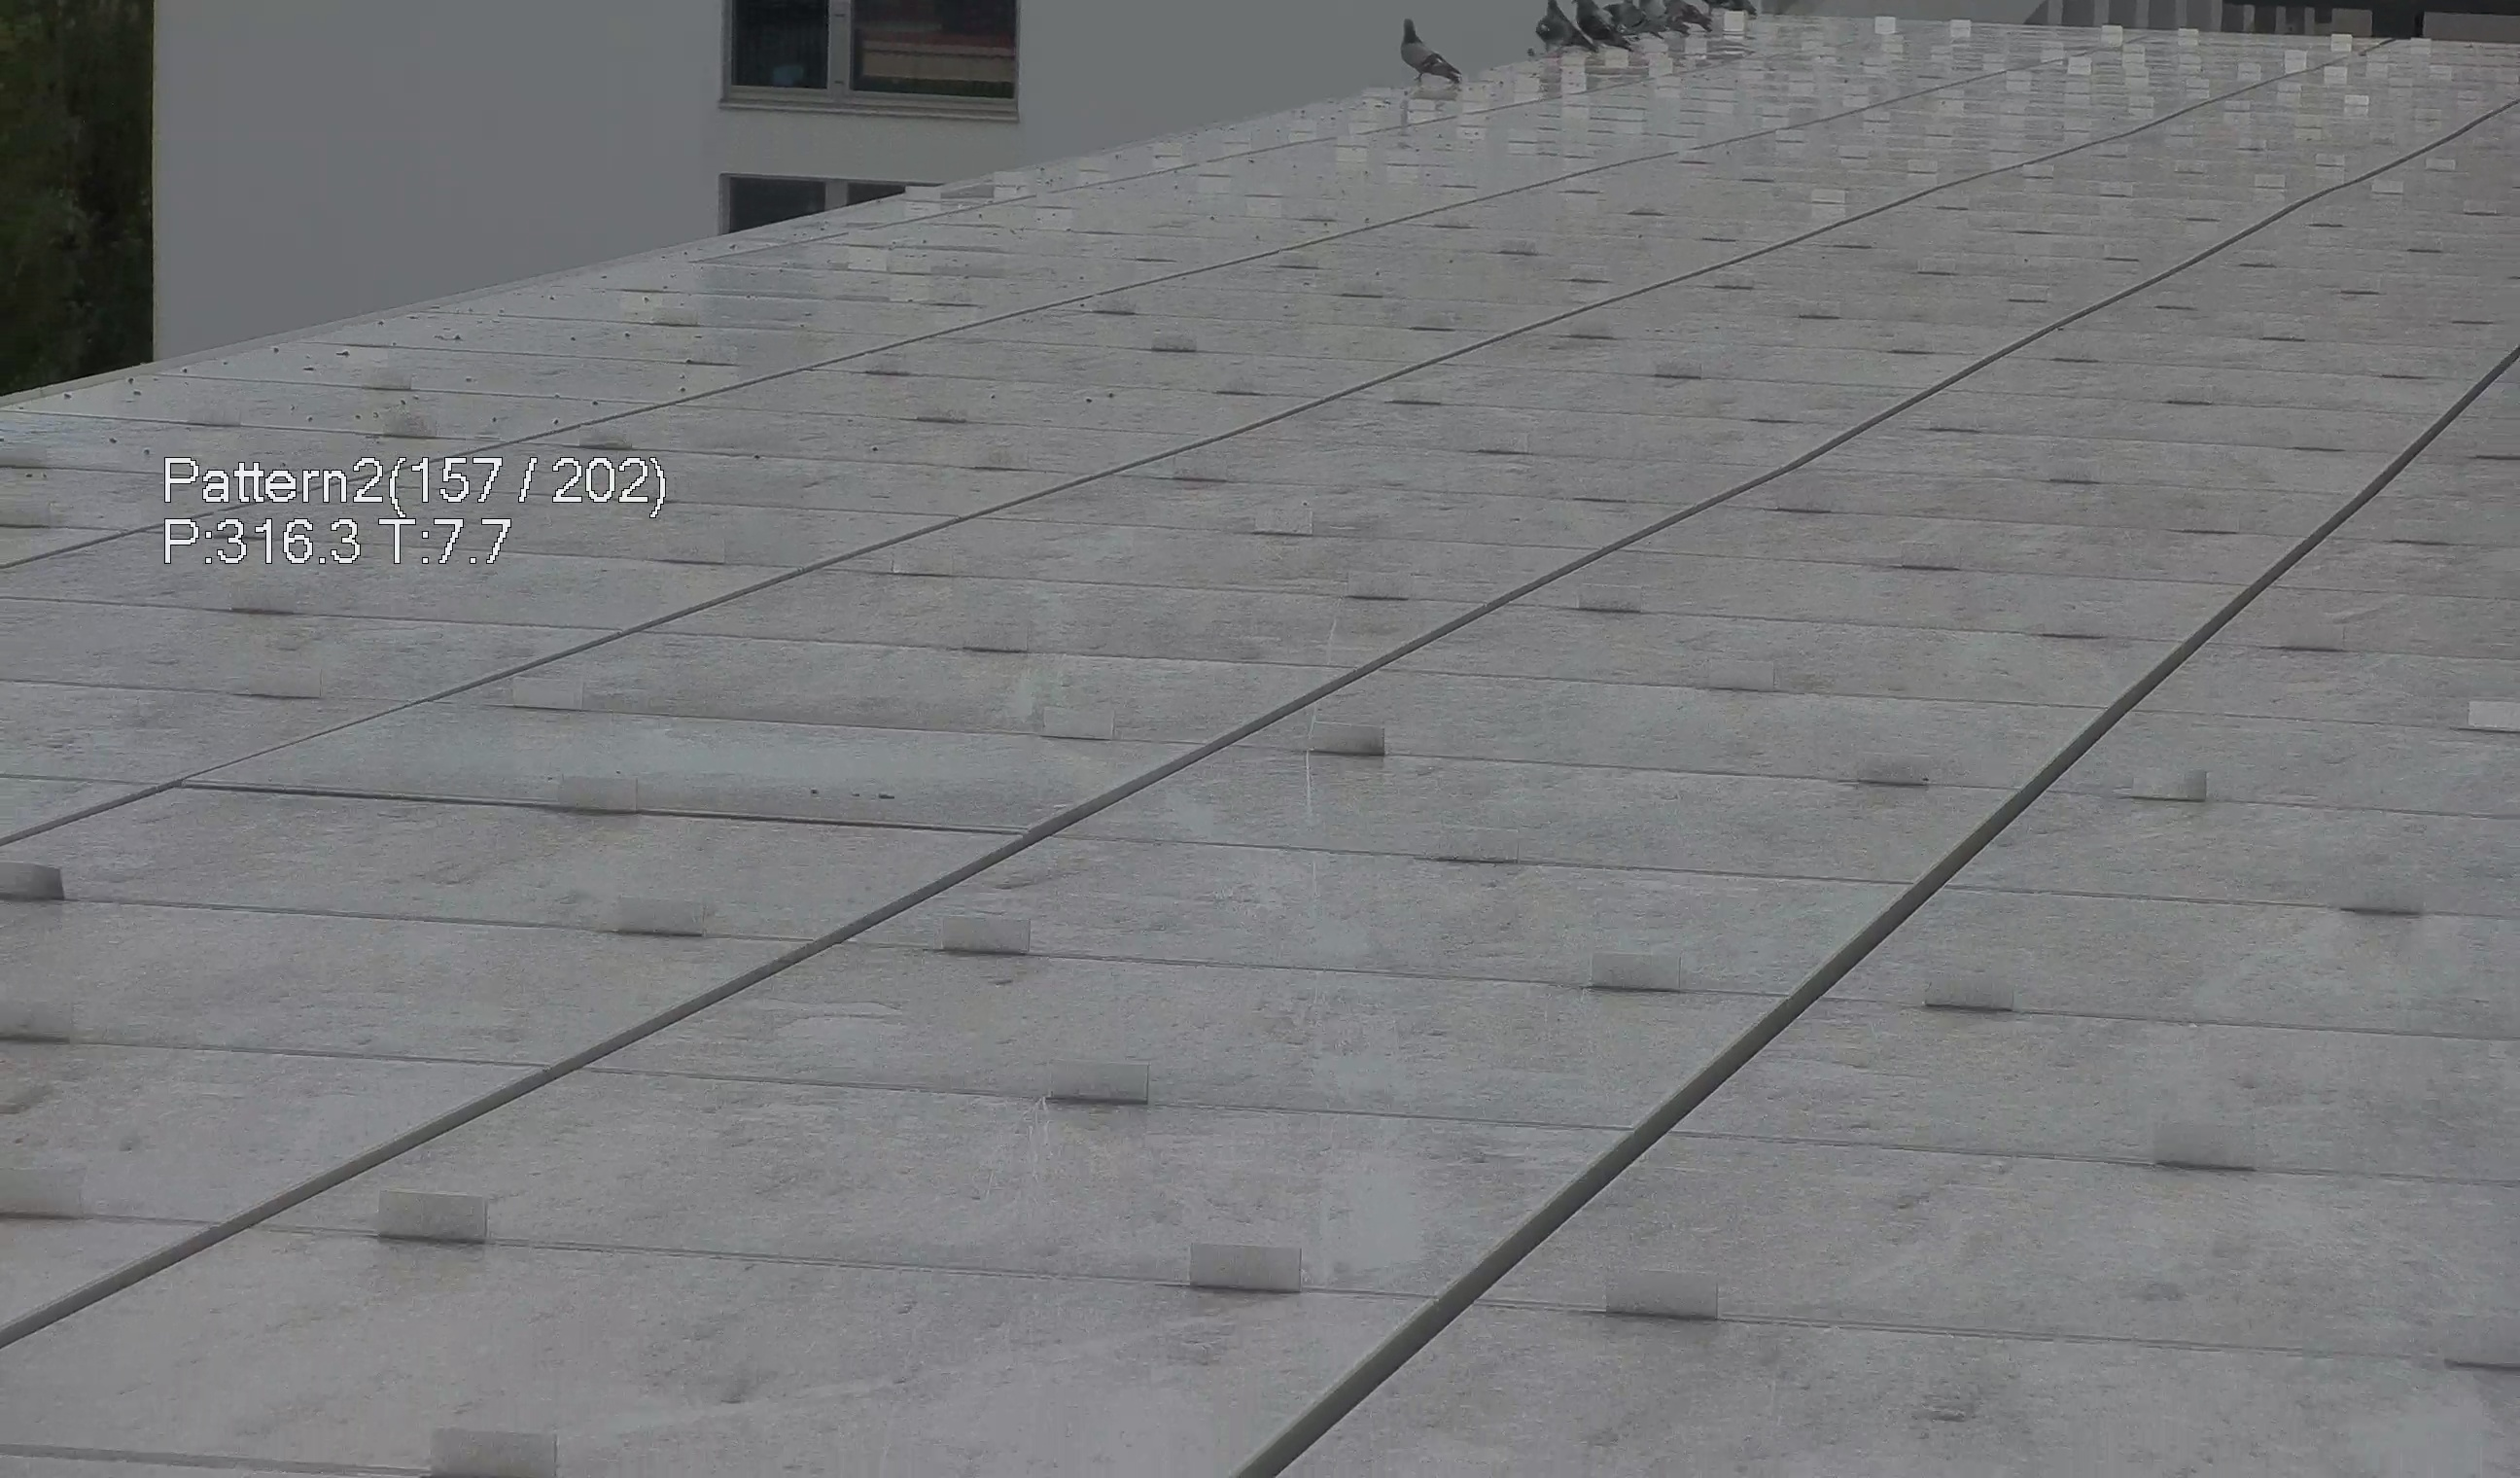Pigeon: (1393, 11, 1468, 93), (1576, 2, 1634, 49), (1533, 14, 1597, 56), (1637, 2, 1693, 39), (1606, 2, 1657, 37), (1667, 2, 1718, 33), (1709, 2, 1760, 25)
